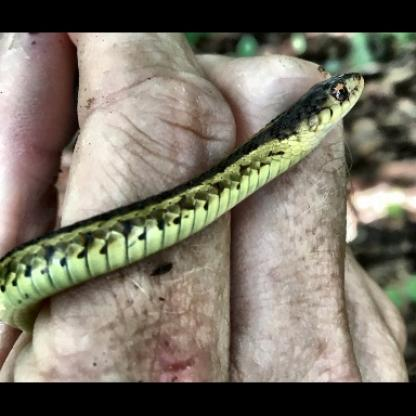Snake: (2, 68, 370, 323)
